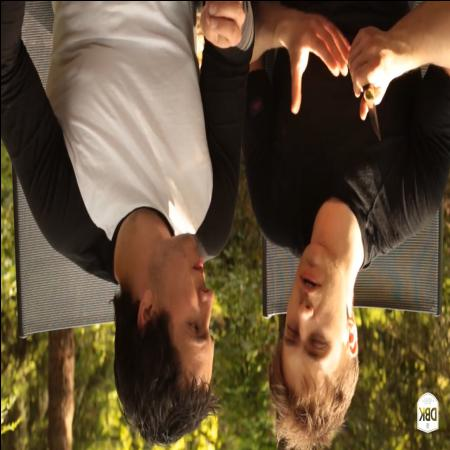long weapon: (346, 46, 390, 158)
